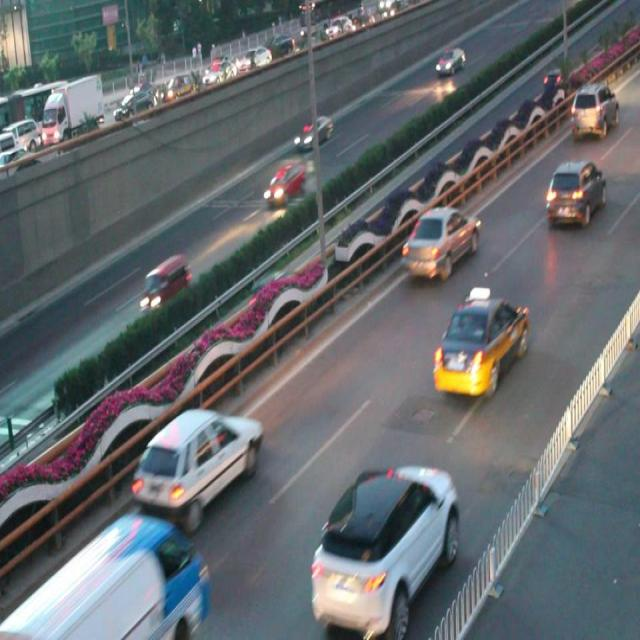car: (310, 460, 457, 627), (133, 406, 262, 522), (432, 286, 528, 400), (399, 205, 478, 279), (546, 159, 606, 227), (234, 279, 285, 330), (261, 160, 307, 205), (292, 114, 334, 152)
truck: (18, 512, 207, 640), (138, 254, 190, 315)
